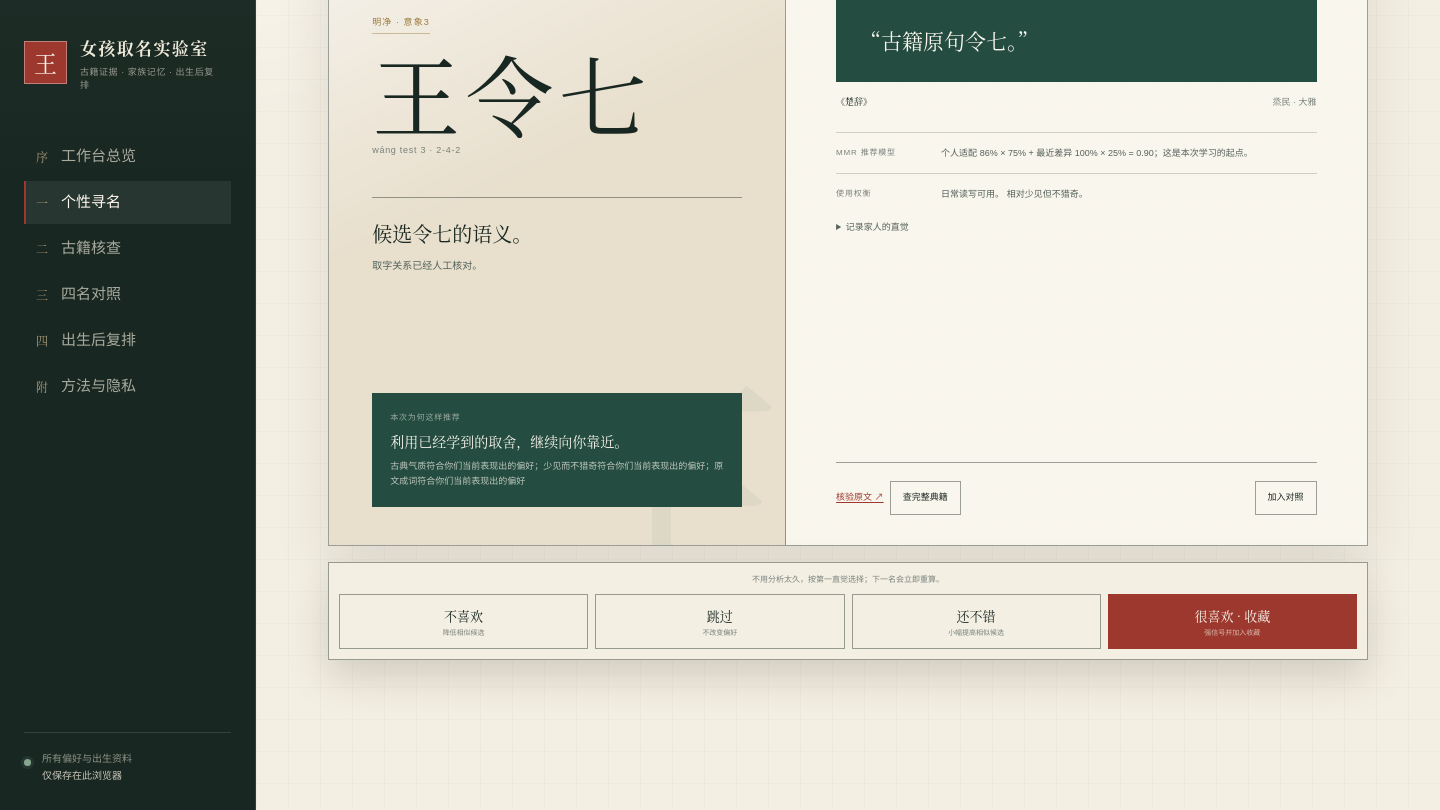
Scenario: 取名实验室应用 › 每次反应都会立即推荐下一名，并可撤销恢复
The width and height of the screenshot is (1440, 810).
(page scrolled)
Click the button "加入对照" at (1286, 498), box [1255,481,1317,515]
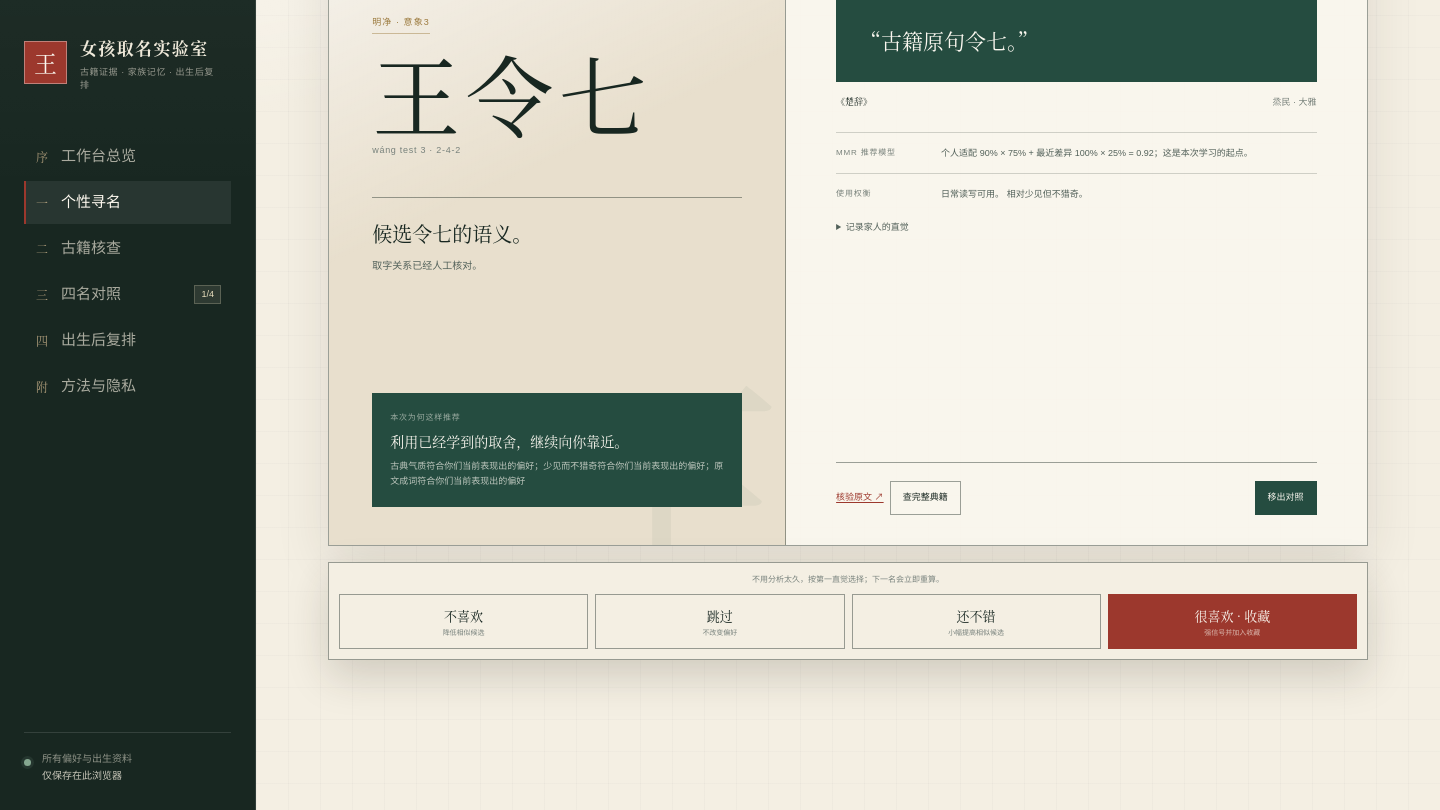
Click the button "还不错 小幅提高相似候选" at (976, 622), box [852,594,1101,649]
(page scrolled)
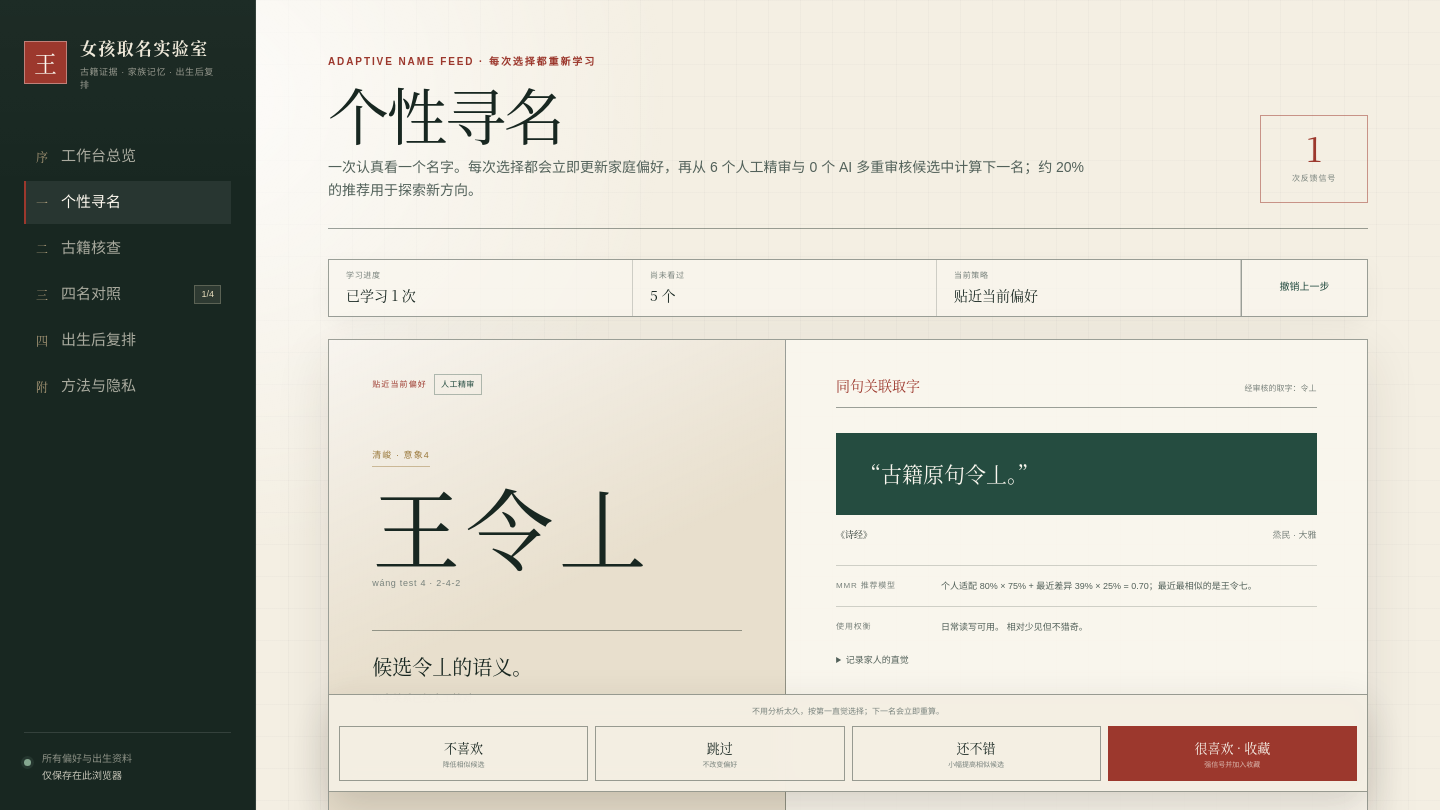
Result: the text "已学习 1 次" is shown at [346,285,416,305]
Click the button "撤销上一步" at (1304, 288), box [1241,260,1367,316]
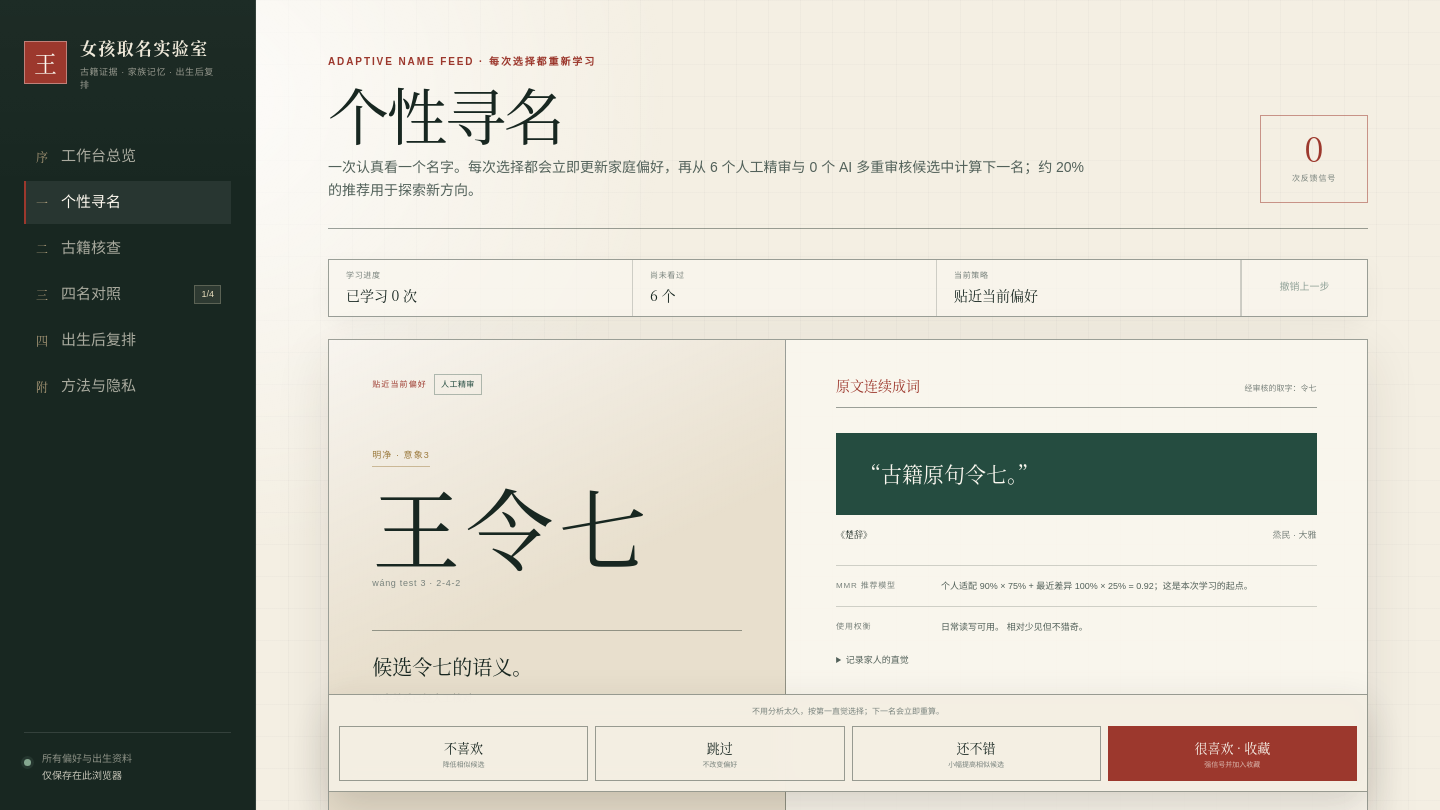
Result: the text "已学习 0 次" is shown at [346,285,417,305]
